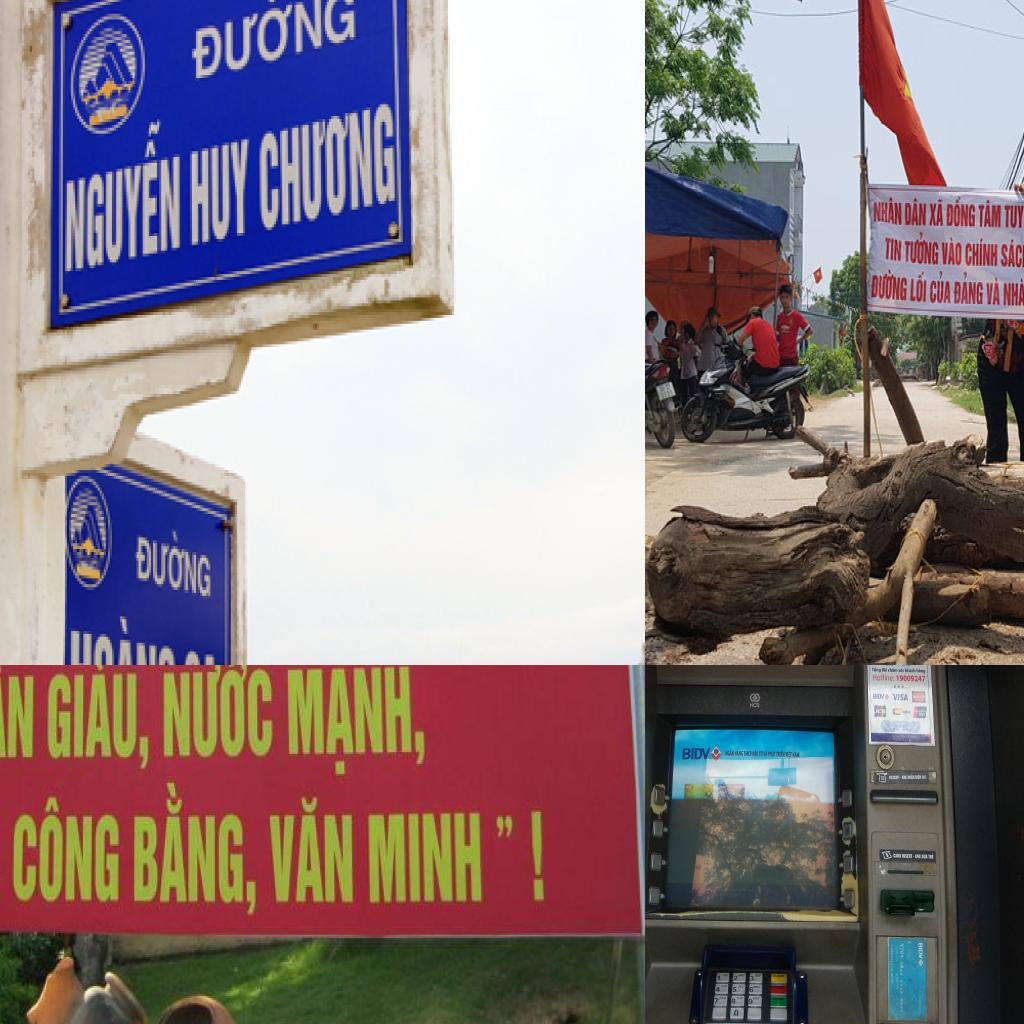text: (61, 110, 182, 277), (255, 102, 399, 233), (129, 779, 261, 921), (281, 665, 437, 777), (181, 0, 357, 90), (9, 793, 124, 916), (361, 803, 487, 906), (43, 665, 153, 776), (160, 665, 275, 763), (265, 792, 359, 908), (186, 136, 255, 250), (65, 598, 181, 665), (130, 517, 218, 599), (0, 665, 37, 772), (525, 806, 554, 912), (870, 267, 910, 304), (904, 230, 940, 267), (964, 237, 1000, 269), (954, 271, 985, 307), (945, 195, 977, 229), (874, 194, 903, 228), (929, 270, 952, 307), (977, 198, 1003, 230), (1000, 237, 1024, 270), (1003, 199, 1024, 236), (904, 196, 928, 228), (941, 236, 965, 268), (909, 268, 929, 306), (1002, 276, 1024, 309), (492, 810, 516, 839), (985, 275, 1002, 307), (884, 236, 903, 263), (929, 197, 945, 229), (682, 747, 710, 761), (900, 942, 904, 1014), (896, 674, 926, 682), (872, 673, 895, 682), (891, 693, 909, 702), (918, 942, 924, 960), (872, 693, 884, 700), (776, 749, 785, 757), (874, 708, 886, 714), (901, 853, 913, 859), (916, 668, 926, 675), (889, 775, 900, 781), (785, 750, 792, 759), (725, 750, 735, 756), (734, 750, 744, 756), (871, 667, 881, 673), (888, 667, 898, 673), (892, 852, 902, 858), (768, 750, 776, 757), (905, 668, 916, 673), (743, 750, 752, 756), (792, 752, 800, 758), (772, 996, 784, 1000), (907, 774, 915, 780), (914, 774, 922, 780), (928, 852, 934, 860), (773, 974, 784, 978), (758, 750, 764, 757), (732, 975, 738, 982), (881, 667, 888, 673), (921, 854, 928, 860), (736, 995, 744, 1000), (752, 750, 758, 756), (752, 996, 761, 1000), (902, 710, 911, 714), (901, 774, 907, 780), (755, 973, 762, 978), (898, 668, 905, 673), (716, 974, 720, 982), (737, 973, 745, 977), (753, 984, 761, 988), (719, 996, 727, 1000), (732, 986, 737, 992), (738, 984, 744, 989), (714, 998, 719, 1004), (731, 998, 736, 1004), (915, 854, 921, 859), (764, 750, 768, 757), (749, 998, 753, 1005), (715, 987, 720, 992), (749, 987, 754, 992), (750, 976, 754, 982), (721, 984, 727, 988), (734, 1010, 738, 1016), (922, 774, 926, 780)
